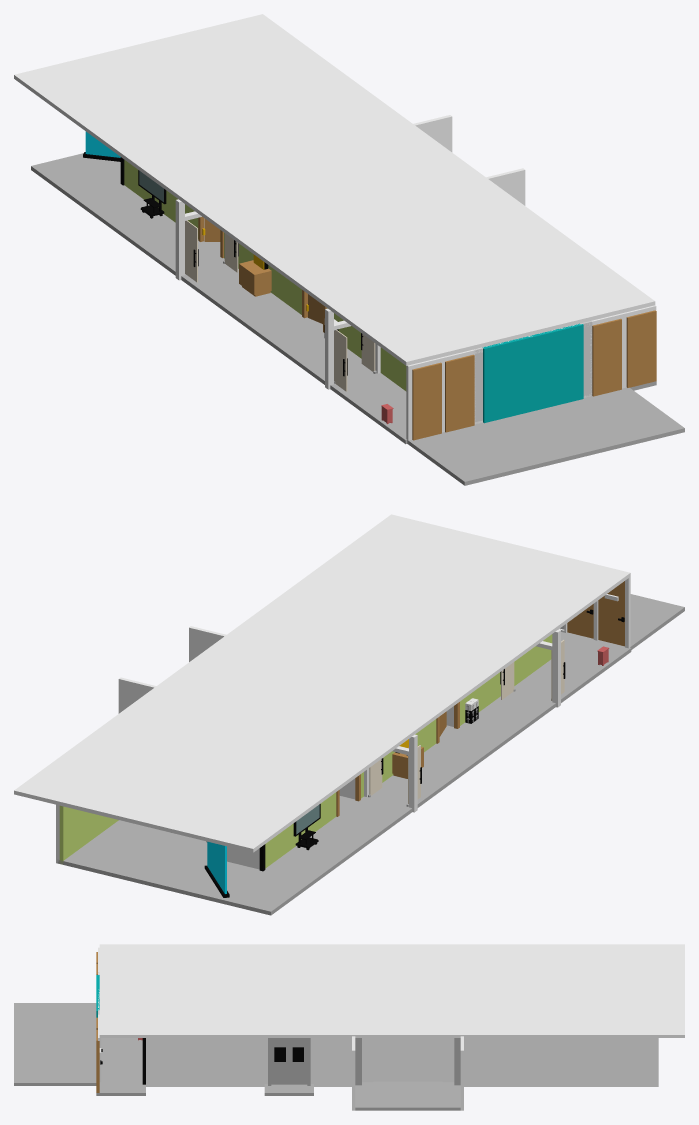
Rendered from indoor.gltf.
The picture shows the model from 3 angles, top to bottom: view 1: azimuth 30°, elevation 25°; view 2: azimuth 150°, elevation 25°; view 3: azimuth 270°, elevation 25°; orthographic projection. The views are drawn at different scales.
Parts seen in each view (by area): view 1: Box (×22); view 2: Box (×15); view 3: Box (×19).
Part boxes in pixels (x1,y1,x2,y2): Box (×22): (14,14,684,485); Box (×15): (14,514,684,915); Box (×19): (14,944,684,1110).
Bounding box in the file's own units: 152 × 40.96 × 407.
